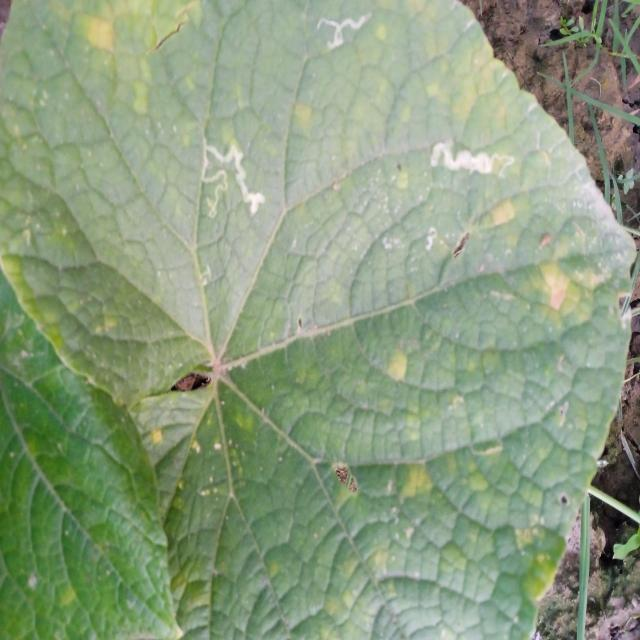cucumber_downy: (10, 0, 610, 326), (186, 261, 621, 640)
